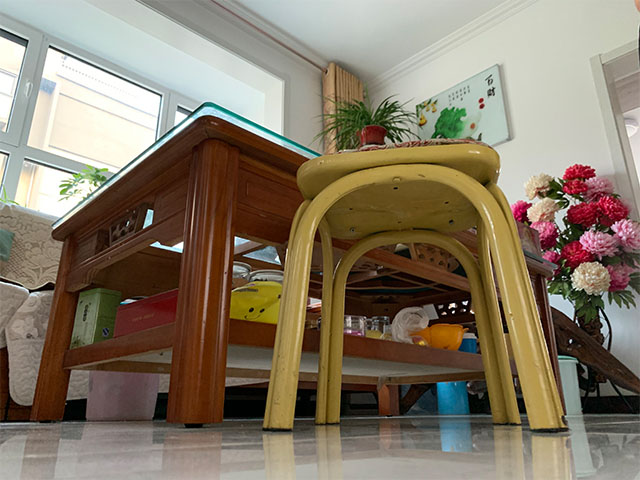stool: (262, 137, 571, 433)
table: (30, 100, 566, 429)
